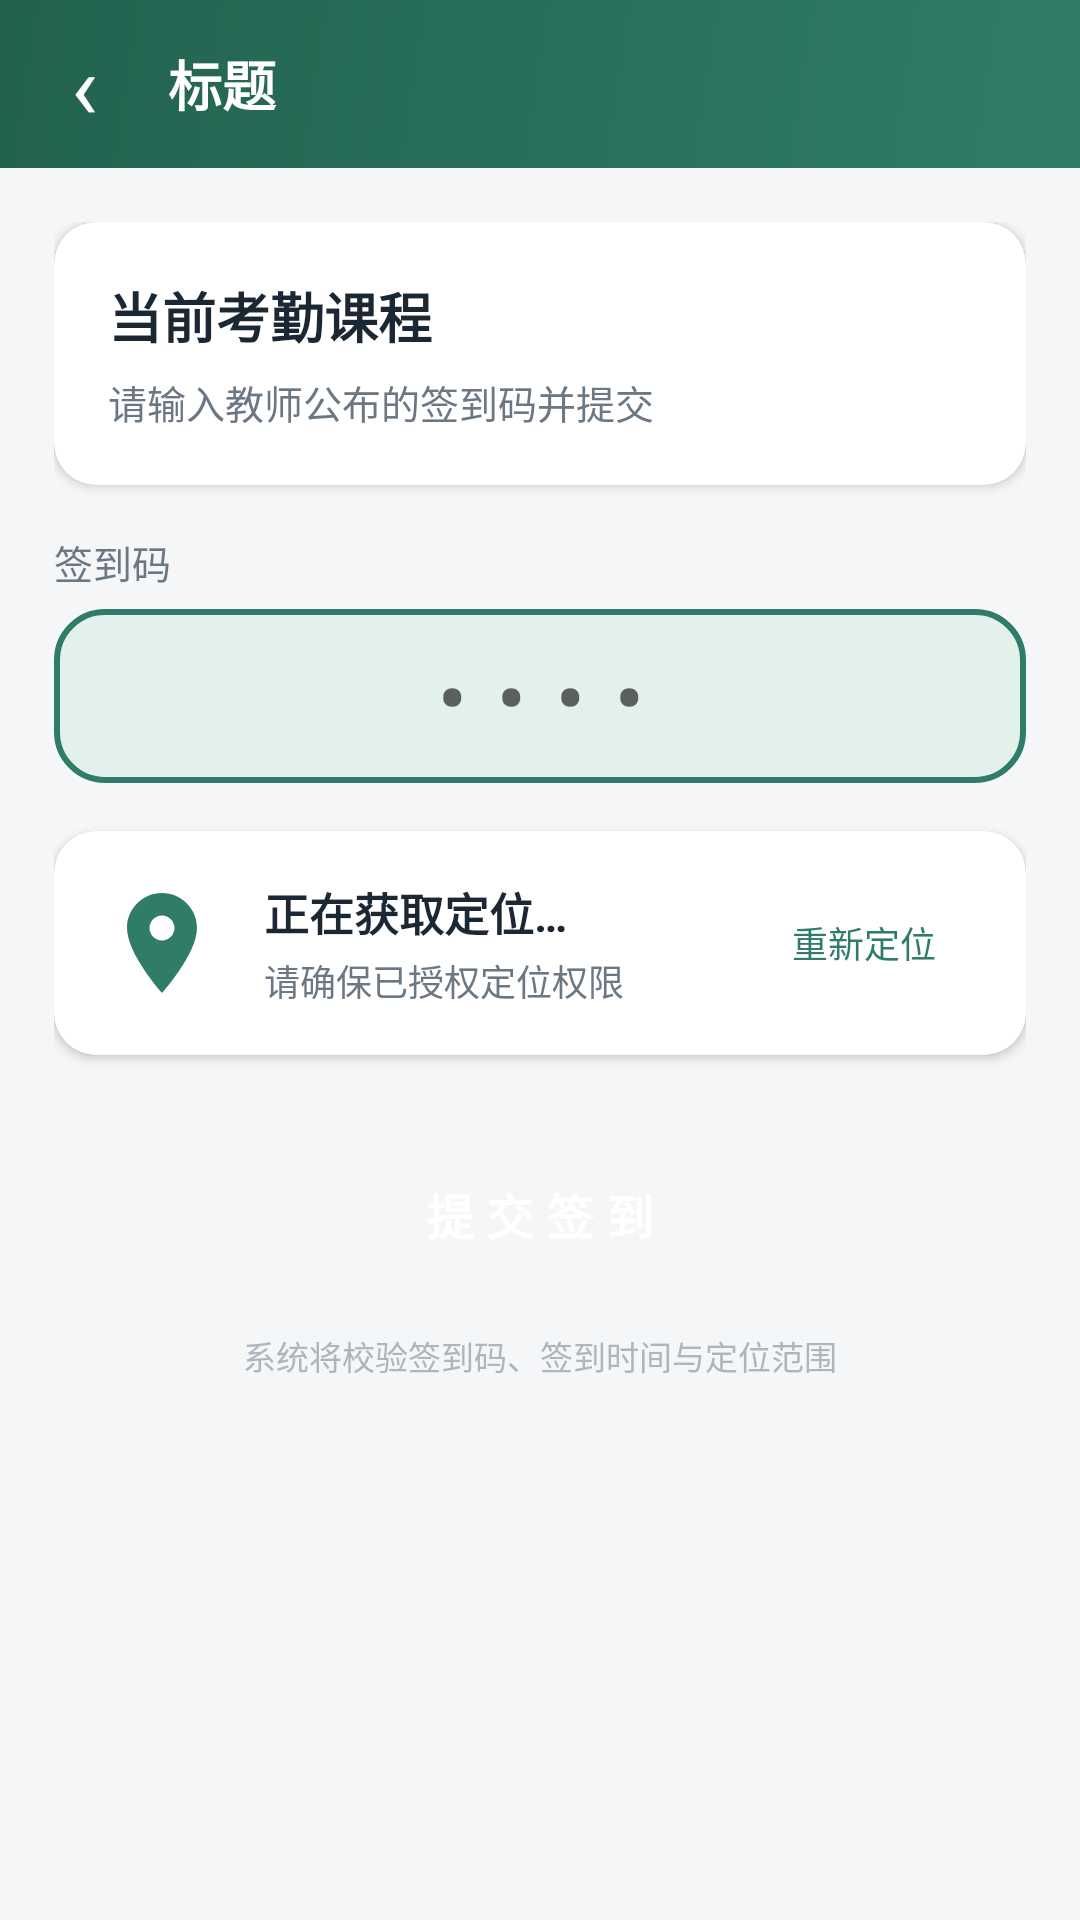

Screen size 1080x1920. Icon name, then its center in pixels as (x,y):
location: (162,943)
